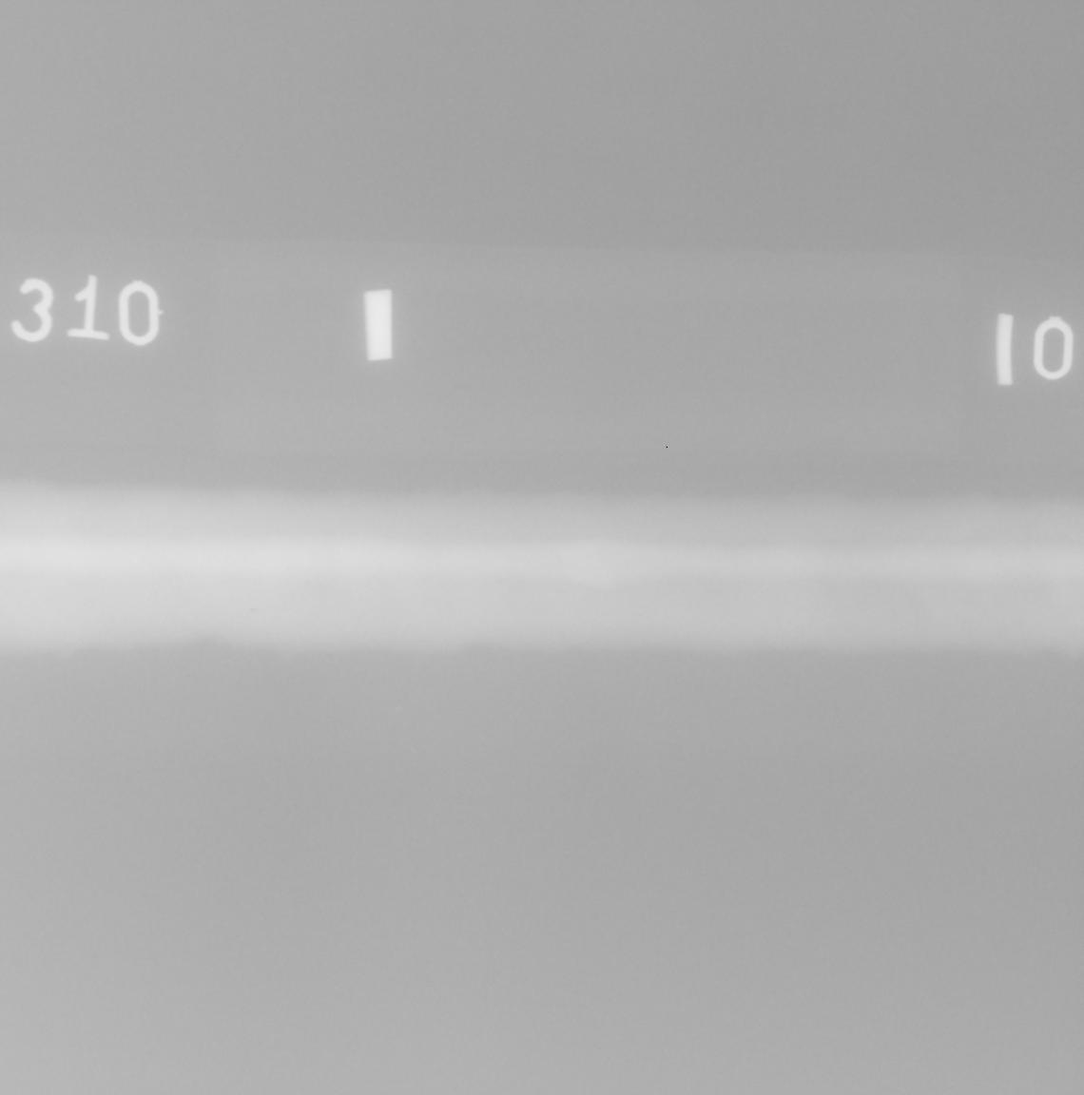Pore/Porosity: (250, 607, 255, 613)
